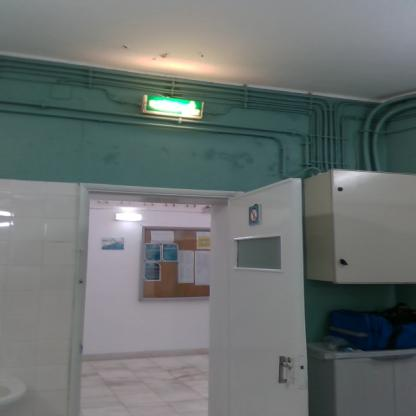closed: (53, 167, 311, 415)
